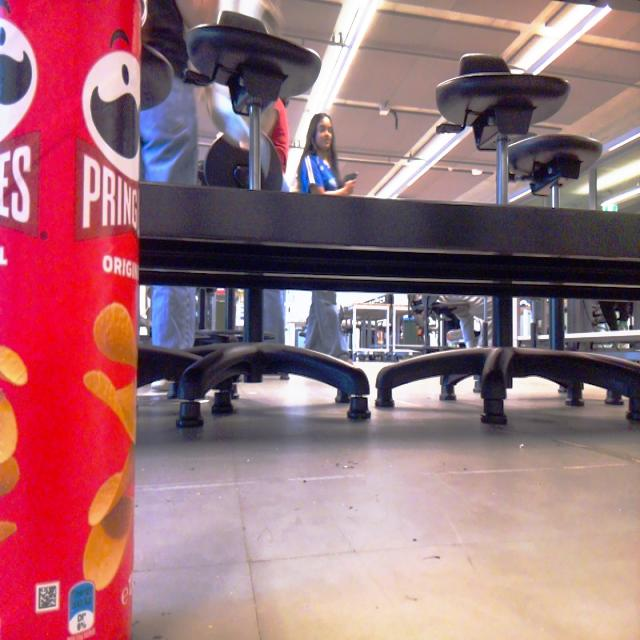redpringles: (1, 2, 157, 640)
